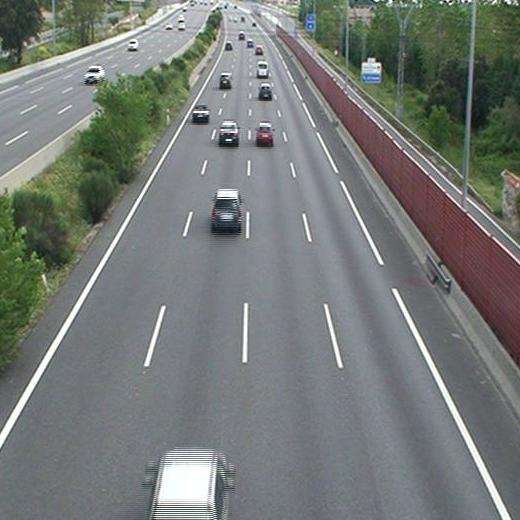car: (148, 450, 230, 520), (210, 190, 242, 227), (219, 121, 240, 142), (256, 123, 274, 142), (192, 105, 209, 119), (259, 85, 272, 99), (219, 73, 232, 87), (254, 45, 262, 53), (224, 42, 232, 49)
van: (257, 61, 269, 77)
